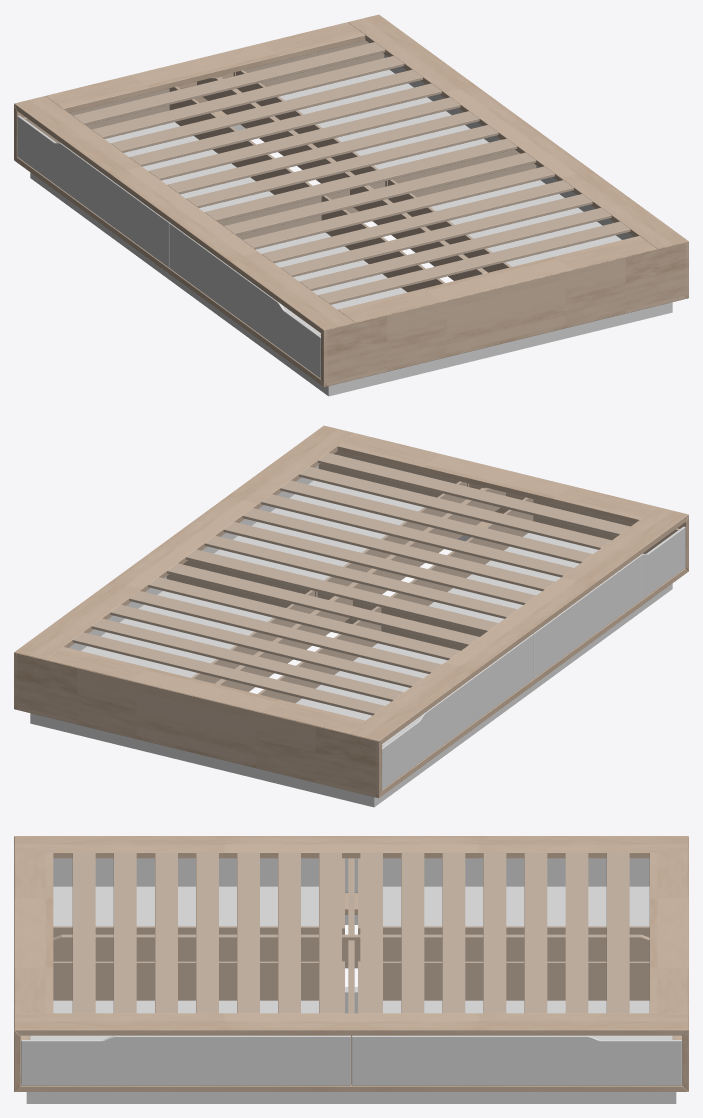
Rendered from platform_bed.glb.
3 views of the same model, one above another, from view 1: azimuth 30°, elevation 25°; view 2: azimuth 150°, elevation 25°; view 3: azimuth 270°, elevation 25° (orthographic). The views are drawn at different scales.
Parts seen in each view (by area): view 1: bed-base_2, top-flat-l_9, sides-w_8, drawer-door_12, top-flat-w_10, drawer-floor_13, drawer-back_15, drawer-side_14, bottom-w_4, middle-top_6, bottom-l_3; view 2: bed-base_2, top-flat-l_9, sides-w_8, drawer-door_12, drawer-floor_13, top-flat-w_10, drawer-back_15, drawer-side_14, bottom-w_4, middle-top_6, bottom-l_3; view 3: bed-base_2, drawer-door_12, top-flat-l_9, drawer-floor_13, top-flat-w_10, drawer-back_15, middle-top_6, bottom-l_3, sides-w_8, middle-width_7, drawer-side_14.
Boxes of the visible parts, x1=… form: bed-base_2: x1=73, y1=42, x2=630, y2=304; top-flat-l_9: x1=14, y1=14, x2=688, y2=386; sides-w_8: x1=14, y1=72, x2=688, y2=386; drawer-door_12: x1=17, y1=54, x2=633, y2=378; top-flat-w_10: x1=46, y1=22, x2=656, y2=379; drawer-floor_13: x1=104, y1=69, x2=621, y2=334; drawer-back_15: x1=169, y1=70, x2=511, y2=292; drawer-side_14: x1=23, y1=40, x2=536, y2=335; bottom-w_4: x1=30, y1=124, x2=672, y2=396; middle-top_6: x1=197, y1=76, x2=487, y2=280; bottom-l_3: x1=34, y1=175, x2=324, y2=392; bed-base_2: x1=72, y1=453, x2=630, y2=715; top-flat-l_9: x1=14, y1=425, x2=688, y2=797; sides-w_8: x1=14, y1=483, x2=688, y2=797; drawer-door_12: x1=69, y1=465, x2=685, y2=789; drawer-floor_13: x1=81, y1=480, x2=598, y2=745; top-flat-w_10: x1=46, y1=433, x2=656, y2=790; drawer-back_15: x1=191, y1=481, x2=533, y2=703; drawer-side_14: x1=166, y1=451, x2=679, y2=746; bottom-w_4: x1=30, y1=535, x2=672, y2=807; middle-top_6: x1=215, y1=487, x2=505, y2=691; bottom-l_3: x1=378, y1=586, x2=668, y2=803; bed-base_2: x1=72, y1=852, x2=629, y2=1013; drawer-door_12: x1=21, y1=858, x2=681, y2=1085; top-flat-l_9: x1=14, y1=836, x2=688, y2=1091; drawer-floor_13: x1=30, y1=886, x2=672, y2=1039; top-flat-w_10: x1=14, y1=852, x2=688, y2=1069; drawer-back_15: x1=53, y1=926, x2=649, y2=1000; middle-top_6: x1=53, y1=934, x2=649, y2=968; bottom-l_3: x1=36, y1=915, x2=666, y2=1103; sides-w_8: x1=14, y1=837, x2=688, y2=1091; middle-width_7: x1=348, y1=858, x2=354, y2=1084; drawer-side_14: x1=27, y1=858, x2=675, y2=1039.
Size of the model in its own units: 1.4 by 0.268 by 2.06.
3 materials, 1 textured.
